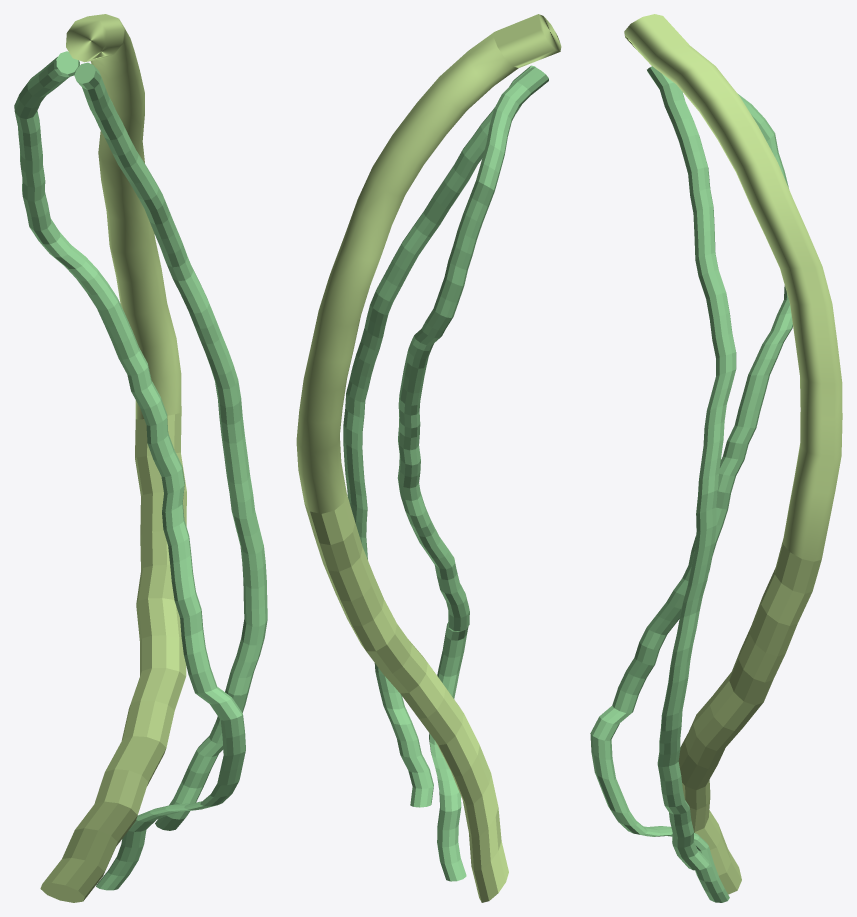
The model's file is VinesCA.fbx.
The picture shows the model from 3 angles, left to right: view 1: azimuth 30°, elevation 25°; view 2: azimuth 150°, elevation 25°; view 3: azimuth 270°, elevation 25°; orthographic projection. The views are drawn at different scales.
Parts seen in each view (by area): view 1: group_33854375, group_461107945, group_419990766; view 2: group_33854375, group_461107945, group_419990766; view 3: group_33854375, group_419990766, group_461107945.
Boxes of the visible parts, bbox=[...] form: group_33854375: bbox=[40, 14, 186, 902]; group_461107945: bbox=[14, 51, 245, 890]; group_419990766: bbox=[74, 62, 267, 830]; group_33854375: bbox=[296, 14, 561, 902]; group_461107945: bbox=[397, 67, 548, 881]; group_419990766: bbox=[343, 65, 536, 807]; group_33854375: bbox=[624, 14, 842, 894]; group_419990766: bbox=[647, 66, 736, 870]; group_461107945: bbox=[590, 93, 792, 902].
Bounding box in the file's own units: 0.1039 × 0.4326 × 0.1136.
